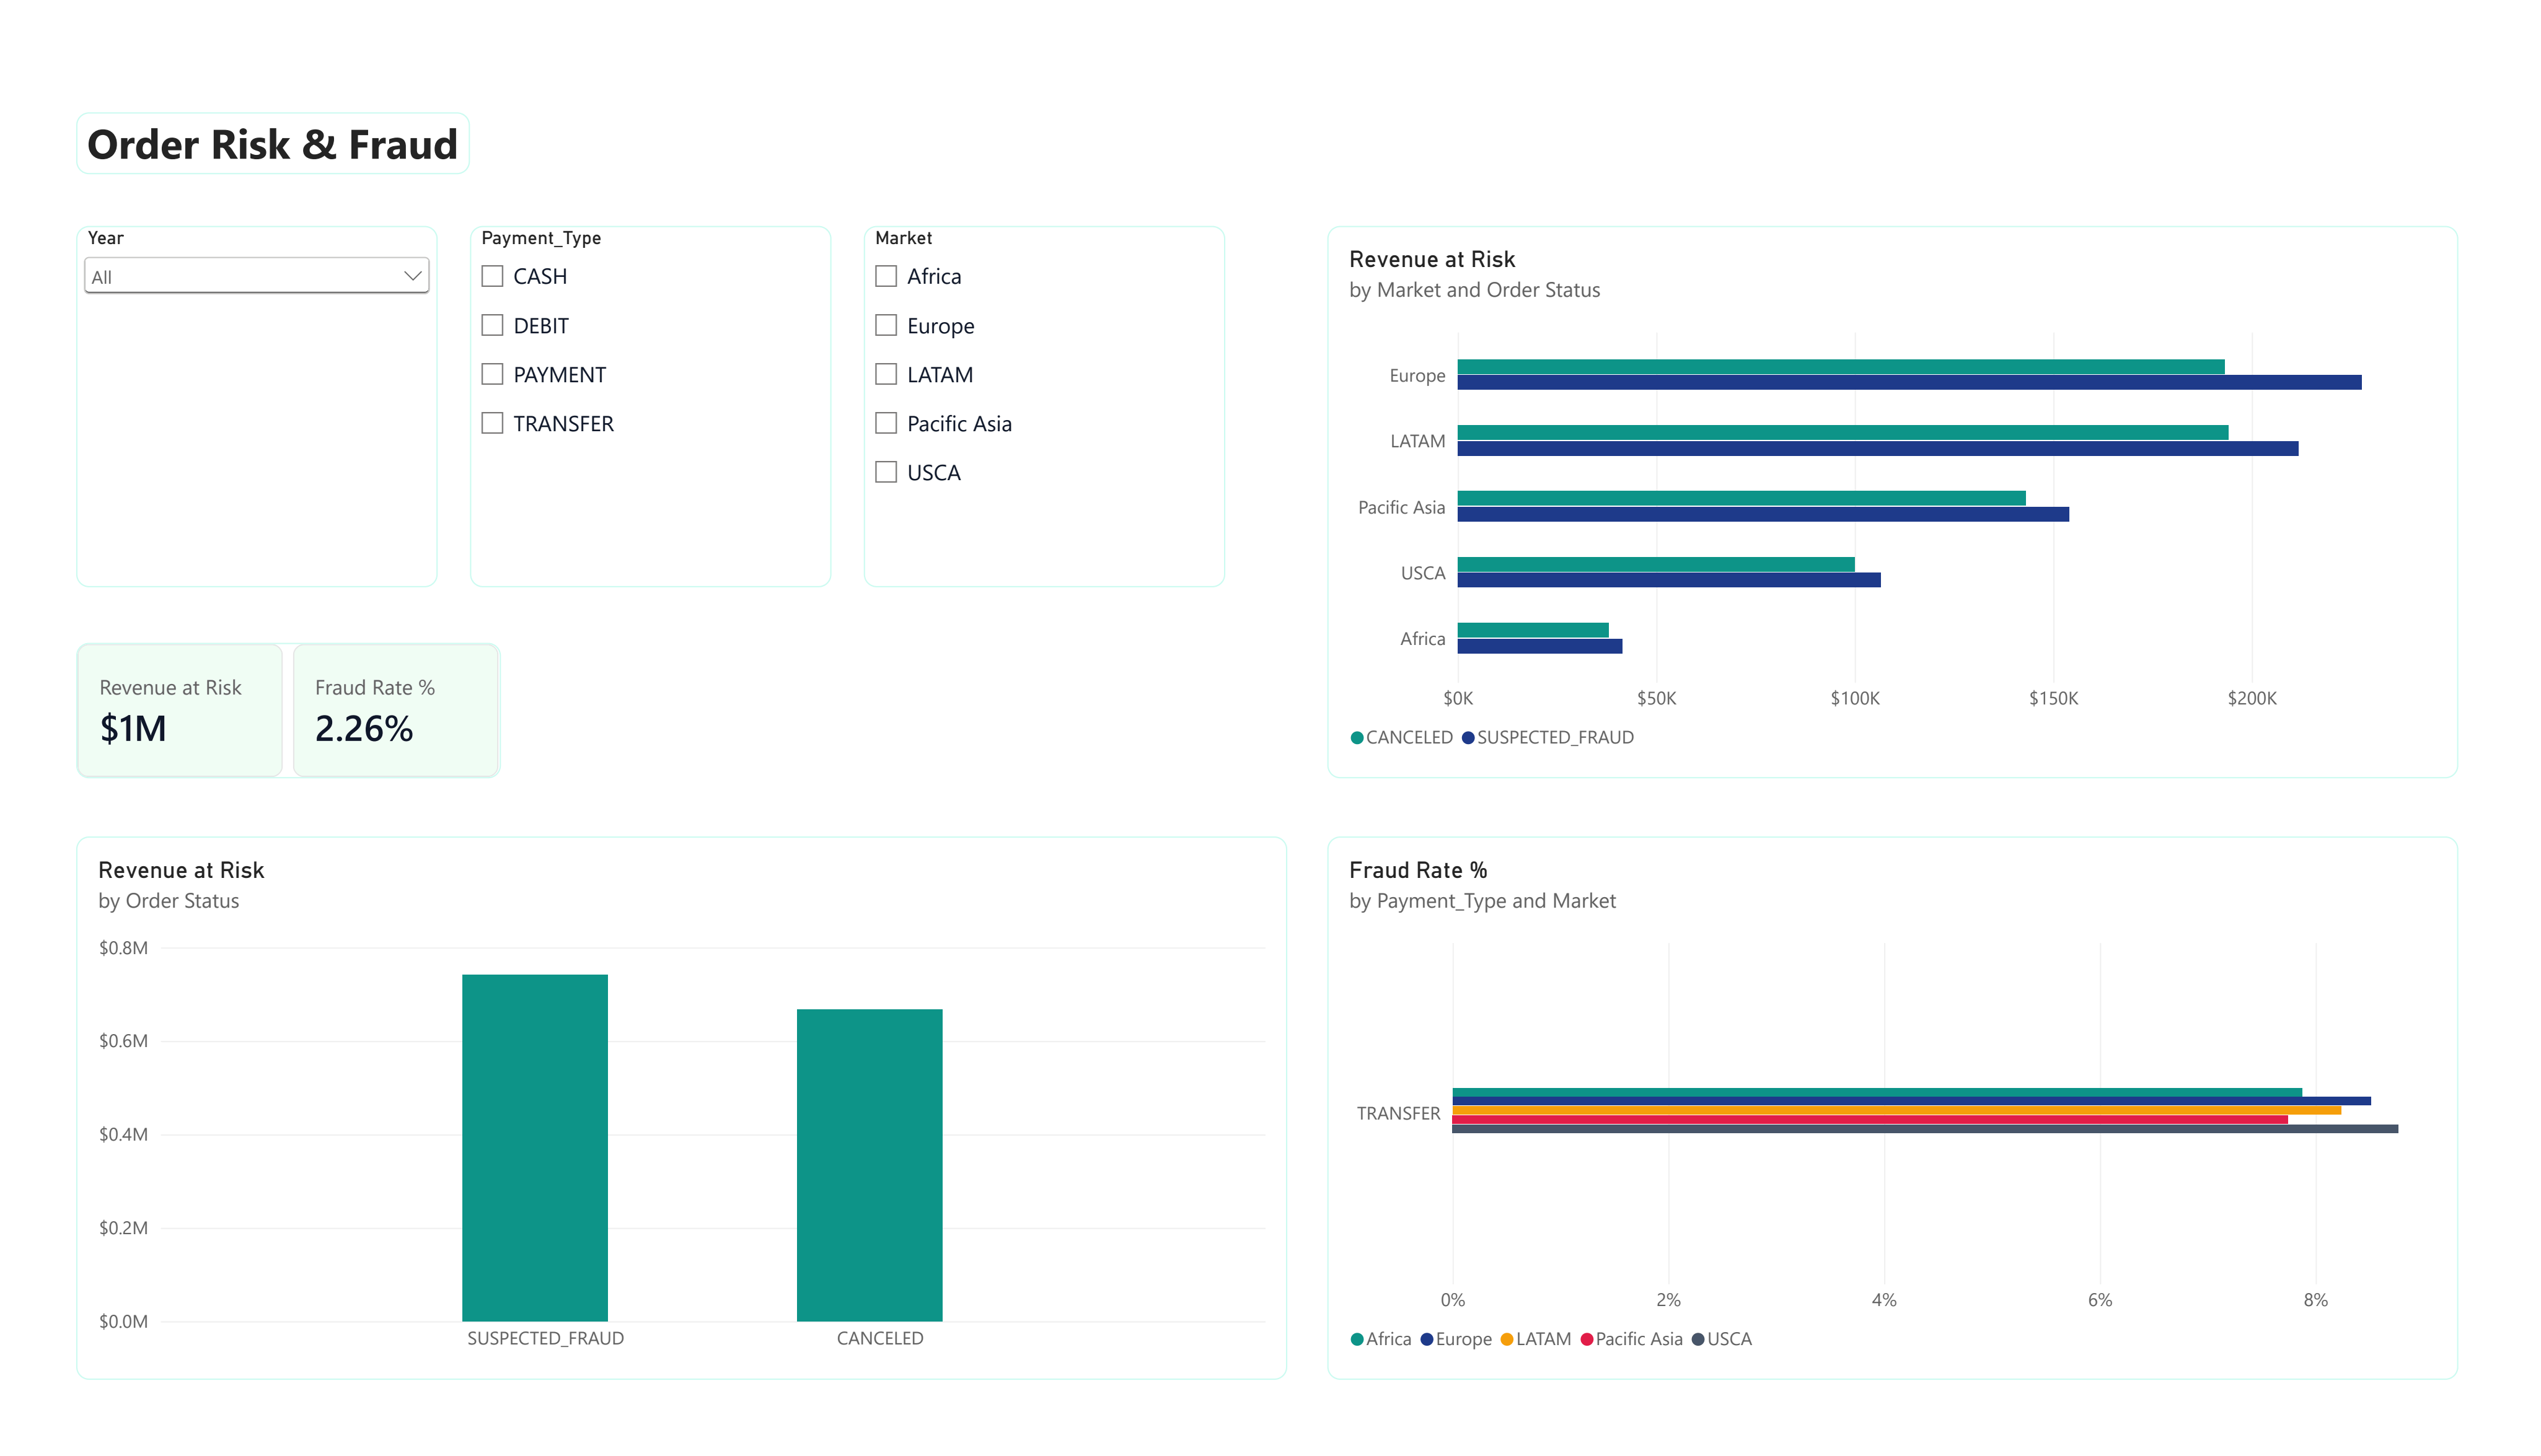

This screenshot's page, from the dashboard's own definition file:
{"tool":"powerbi","page":{"name":"Order Risk & Fraud Monitor","canvas":[1920,1080],"ordinal":3},"visuals":[{"type":"slicer","fields":{"Values":["Dim_Date.Year"]},"box":[35,151,280,280],"z":0},{"type":"slicer","fields":{"Values":["Fact_Orders.Payment_Type"]},"box":[340,151,280,280],"z":1000},{"type":"slicer","fields":{"Values":["Dim_Geography.Market"]},"box":[645,151,280,280],"z":2000},{"type":"cardVisual","fields":{"Data":["_Measures.Revenue at Risk","_Measures.Fraud Rate %"]},"box":[35,473.8,328.8,105],"z":3000},{"type":"clusteredColumnChart","fields":{"Category":["Fact_Orders.Order Status"],"Y":["_Measures.Revenue at Risk"]},"box":[35,623.8,937.5,421.2],"z":4000},{"type":"clusteredBarChart","fields":{"Category":["Fact_Orders.Payment_Type"],"Series":["Dim_Geography.Market"],"Y":["_Measures.Fraud Rate %"]},"box":[1003.8,623.8,876.2,421.2],"z":5000},{"type":"textbox","box":[35,62.5,305,48.8],"z":6000},{"type":"clusteredBarChart","fields":{"Category":["Dim_Geography.Market"],"Series":["Fact_Orders.Order Status"],"Y":["_Measures.Revenue at Risk"]},"box":[1003.8,151.2,876.2,427.5],"z":7000}]}

Visuals, with their boxes on the page's 1920x1080 design canvas (x1, y1, x2, y2). These are canvas units, not pixel positions in the 2541x1456 screenshot, which may show the page scaled, cropped or inside an application window:
slicer - Dim_Date.Year: l=35, t=151, r=315, b=431
slicer - Fact_Orders.Payment_Type: l=340, t=151, r=620, b=431
slicer - Dim_Geography.Market: l=645, t=151, r=925, b=431
cardVisual - _Measures.Revenue at Risk x _Measures.Fraud Rate %: l=35, t=474, r=364, b=579
clusteredColumnChart - Fact_Orders.Order Status x _Measures.Revenue at Risk: l=35, t=624, r=972, b=1045
clusteredBarChart - Fact_Orders.Payment_Type x Dim_Geography.Market: l=1004, t=624, r=1880, b=1045
textbox: l=35, t=62, r=340, b=111
clusteredBarChart - Dim_Geography.Market x Fact_Orders.Order Status: l=1004, t=151, r=1880, b=579
